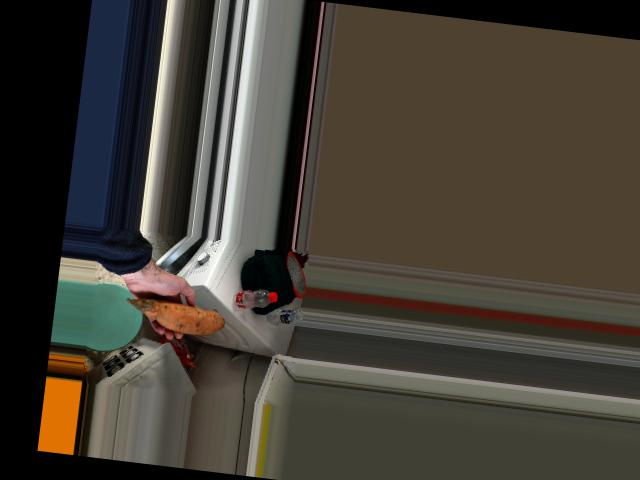sweet_potato: (137, 297, 224, 340)
